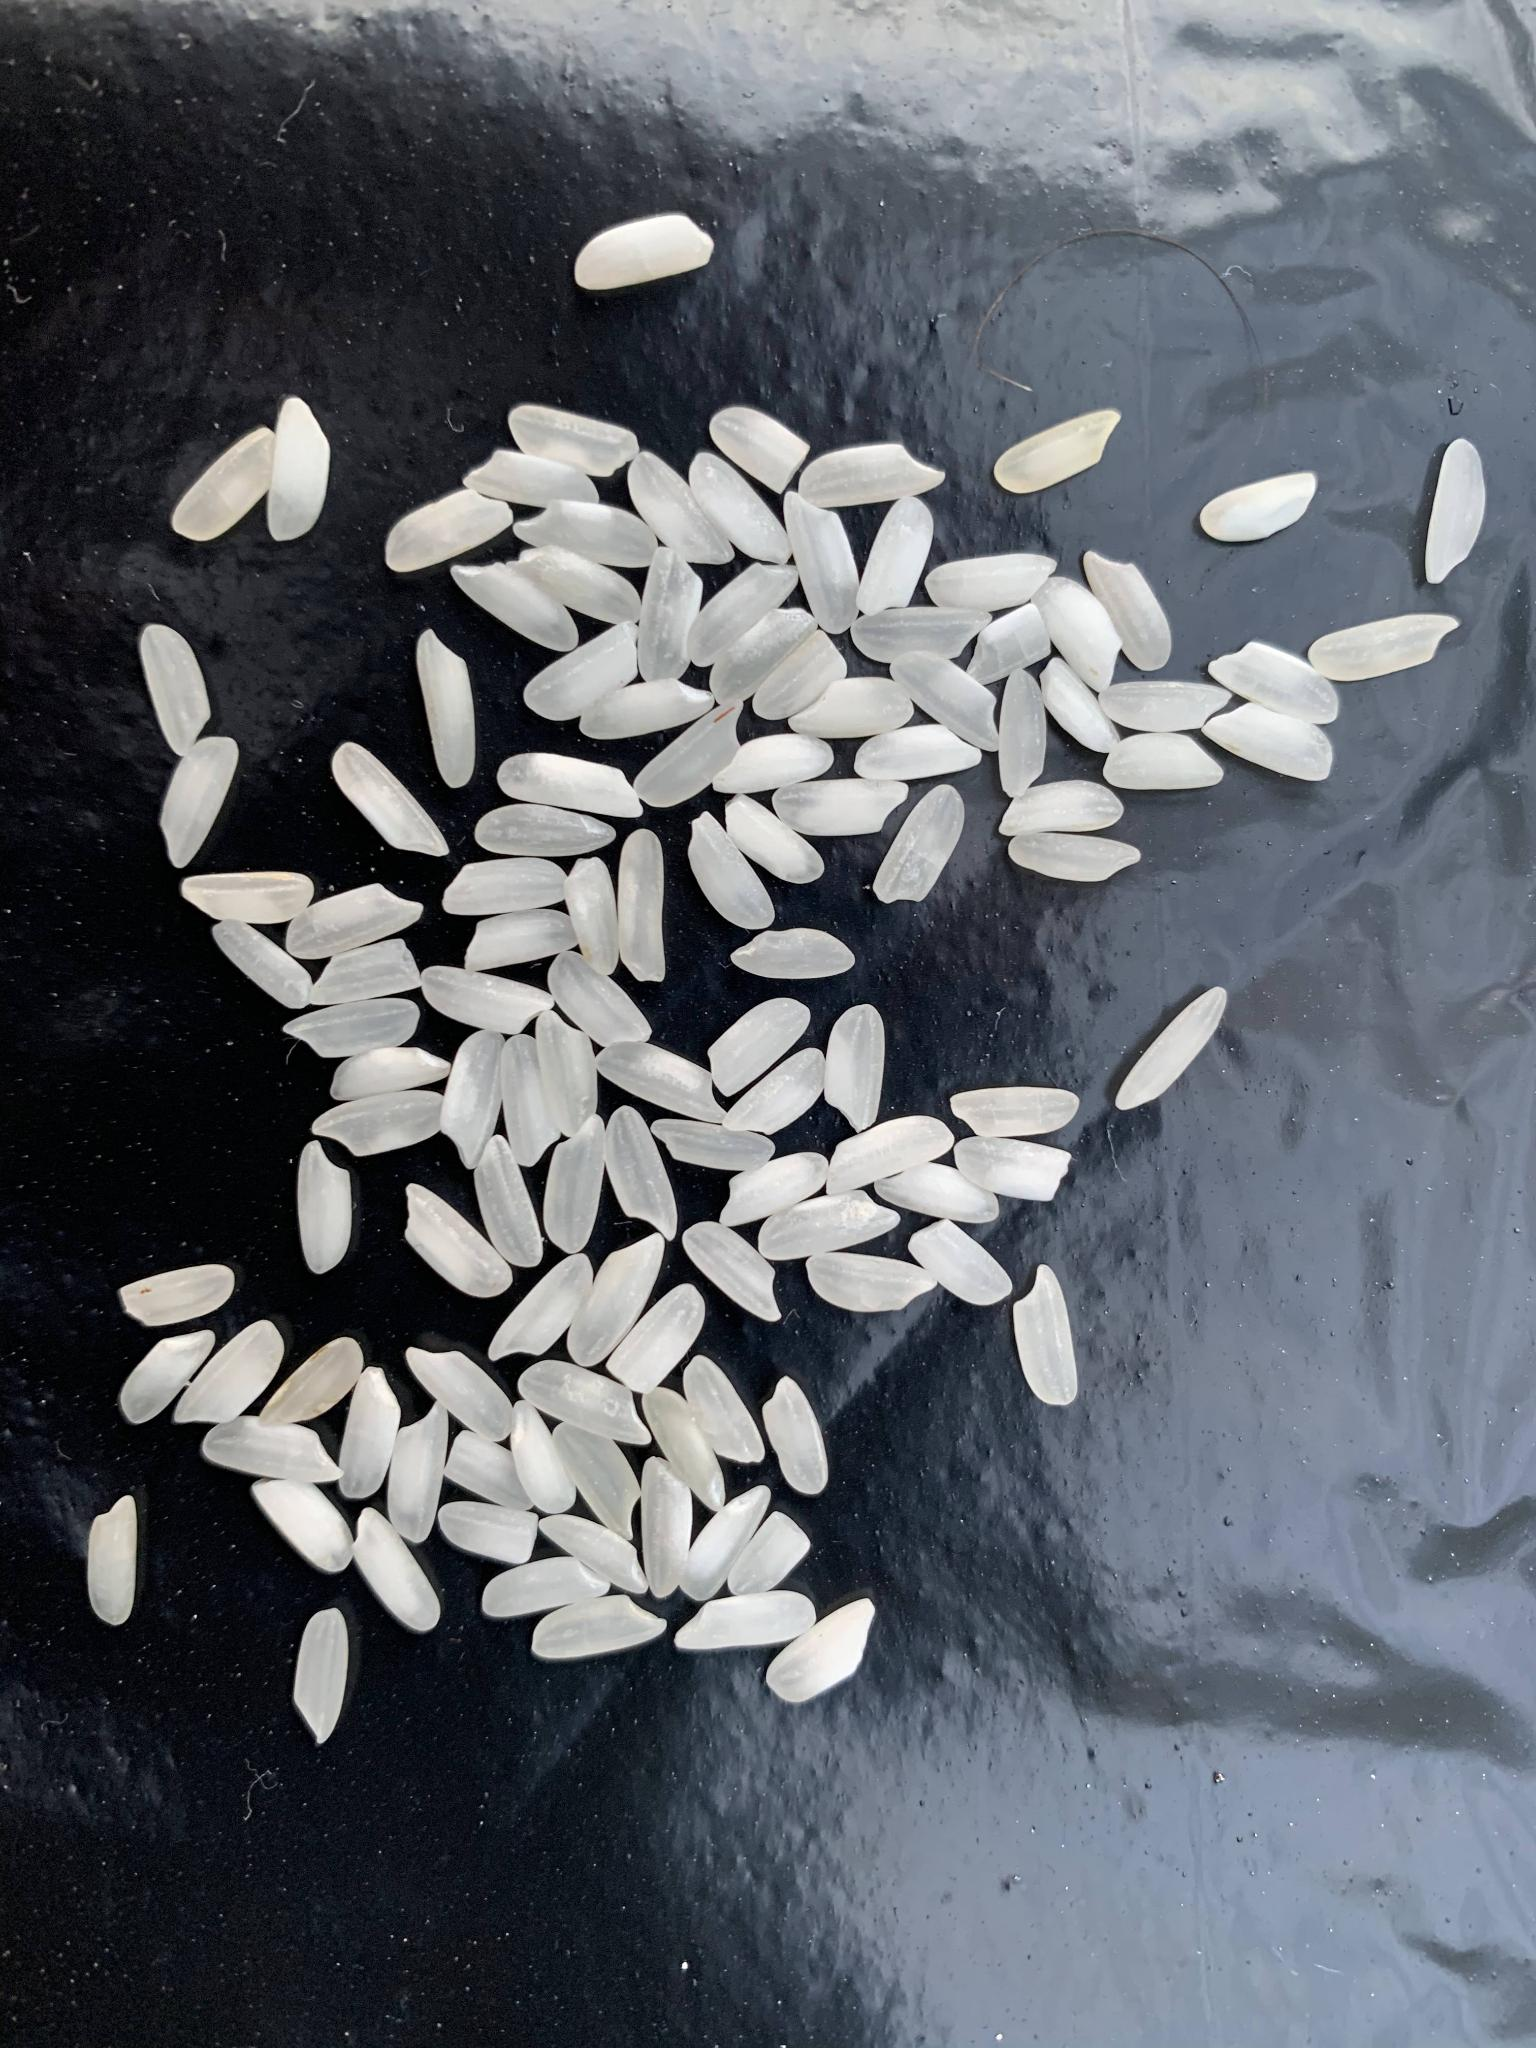rice: (1115, 987, 1226, 1111), (332, 742, 450, 856), (566, 1234, 665, 1367), (403, 1184, 511, 1300), (628, 452, 736, 564), (632, 700, 744, 808), (171, 426, 276, 540), (766, 1598, 878, 1705), (687, 563, 800, 668), (691, 452, 794, 564), (524, 621, 641, 721), (173, 1319, 284, 1422), (450, 563, 579, 651), (487, 1255, 594, 1361), (783, 492, 860, 637), (518, 1359, 652, 1443), (889, 651, 999, 753), (678, 1484, 771, 1601), (1208, 642, 1338, 726), (353, 1508, 440, 1632), (595, 1043, 729, 1124), (508, 547, 642, 627), (607, 1284, 705, 1393), (403, 1347, 516, 1442), (160, 735, 239, 871), (994, 410, 1121, 493), (708, 610, 818, 706), (1083, 552, 1170, 672), (824, 1116, 955, 1197), (286, 884, 424, 959), (574, 214, 713, 290), (874, 784, 963, 901), (552, 1424, 641, 1542), (1309, 614, 1462, 682), (386, 490, 511, 572), (708, 998, 812, 1098), (689, 813, 776, 930), (757, 1190, 900, 1261), (644, 1387, 724, 1513), (1034, 577, 1121, 693), (1200, 705, 1333, 780), (513, 498, 657, 568), (497, 751, 644, 819), (682, 1221, 781, 1321), (115, 1330, 218, 1426), (799, 443, 945, 510), (250, 1480, 353, 1574), (260, 1335, 363, 1429), (202, 1416, 344, 1484), (508, 405, 641, 477), (607, 1105, 676, 1242), (266, 397, 331, 543), (415, 629, 473, 790), (440, 1030, 507, 1171), (423, 964, 553, 1035), (637, 545, 703, 684), (210, 921, 315, 1008), (857, 498, 934, 616), (724, 795, 826, 884), (908, 1219, 1013, 1305), (140, 626, 210, 755), (1015, 1264, 1078, 1406), (682, 1356, 766, 1463), (673, 1590, 818, 1651), (476, 1134, 542, 1268), (311, 1092, 445, 1158), (1425, 440, 1486, 584), (712, 408, 810, 497), (724, 1048, 824, 1135), (541, 1516, 650, 1595), (1199, 471, 1318, 543), (531, 1596, 668, 1659), (544, 1114, 605, 1255), (752, 632, 849, 721), (337, 1366, 402, 1498), (389, 1401, 449, 1543), (578, 679, 715, 740), (281, 998, 419, 1058), (720, 1153, 829, 1227), (805, 1251, 937, 1313), (824, 1001, 886, 1134), (849, 606, 991, 663), (763, 1376, 829, 1496), (465, 452, 599, 511), (1041, 656, 1121, 755), (787, 677, 915, 739), (481, 1556, 611, 1616), (502, 1034, 560, 1168), (537, 1009, 599, 1135), (774, 780, 908, 837), (873, 1163, 999, 1222), (955, 1138, 1071, 1203), (119, 1264, 236, 1329), (440, 858, 570, 916), (925, 553, 1057, 610), (445, 1430, 536, 1513), (618, 829, 666, 982), (852, 722, 983, 779), (712, 735, 834, 795), (511, 1400, 576, 1513), (295, 1608, 349, 1743), (997, 779, 1125, 835), (308, 940, 419, 1005), (298, 1142, 352, 1276), (474, 806, 616, 856), (465, 910, 579, 971), (728, 1513, 810, 1596), (644, 1458, 692, 1600), (1105, 734, 1225, 790), (950, 1087, 1079, 1138), (182, 872, 315, 922), (650, 1119, 776, 1171), (1008, 834, 1142, 882), (566, 856, 620, 977), (1096, 684, 1233, 731), (328, 1050, 452, 1101), (89, 1495, 137, 1625), (729, 927, 857, 976), (999, 669, 1046, 798), (437, 1501, 536, 1563)
